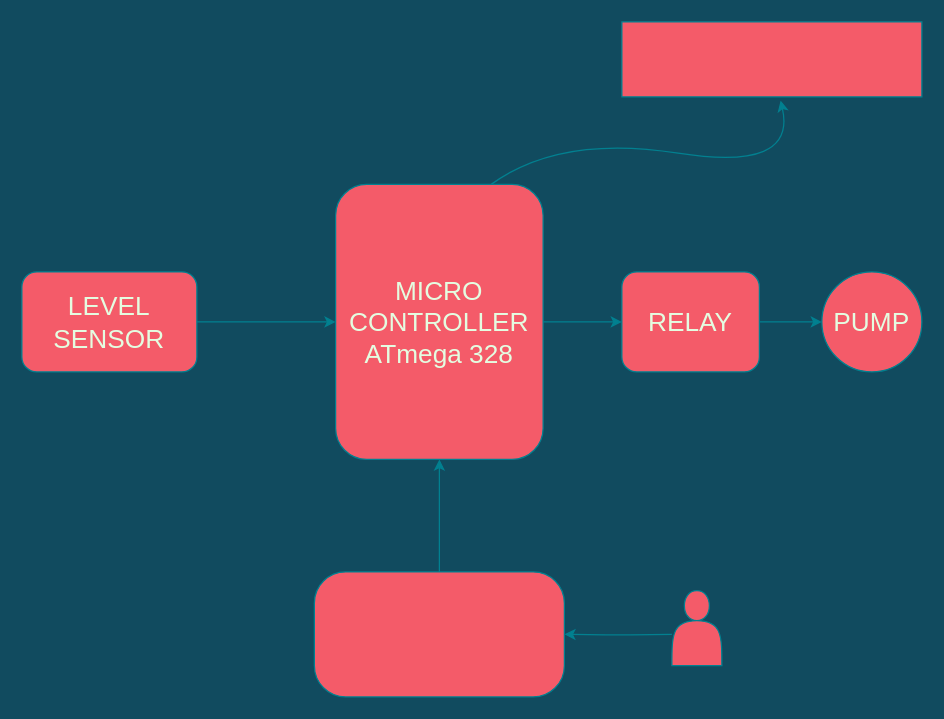
The diagram is 944 pixels wide and 719 high, and some of its shapes have lost their labels. Here are the shapes that lost their labels. From the top down, the centre of each, then its label:
point (771, 59): DISPLAY
point (438, 634): Manual and Automatic control switch
